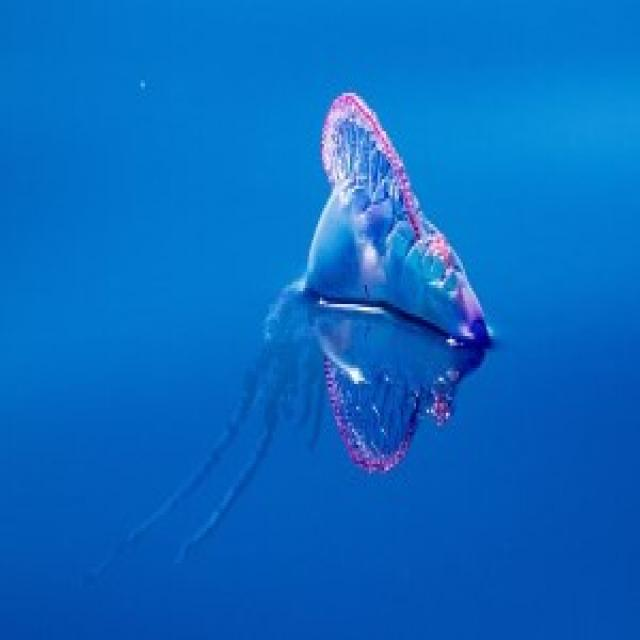Jellyfish: (212, 95, 496, 527)
